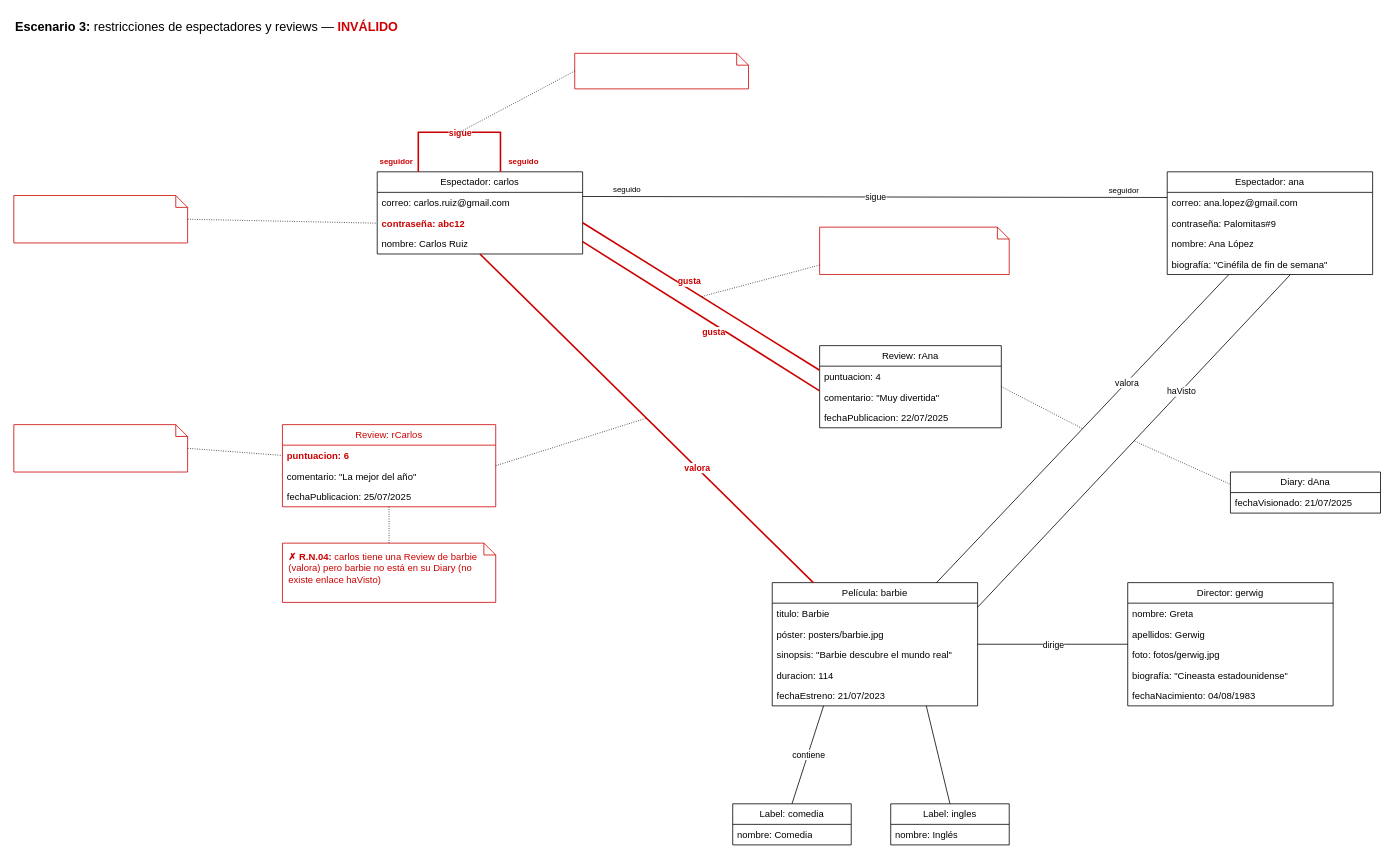
The diagram is 1394 pixels wide and 860 high, and some of its shapes have lost their labels. The centre of each missing label's shape, as x and y in pixels:
✗ R.N.01: carlos se sigue a sí mismo: the point at 661,71
✗ R.N.02: la puntuación 6 está fuera del rango [0.5, 5]: the point at 100,448
✗ R.N.03: carlos tiene dos enlaces gusta con la misma review (rAna): the point at 914,250
✗ Restricción de contraseña: 'abc12' tiene menos de 8 caracteres: the point at 100,219
